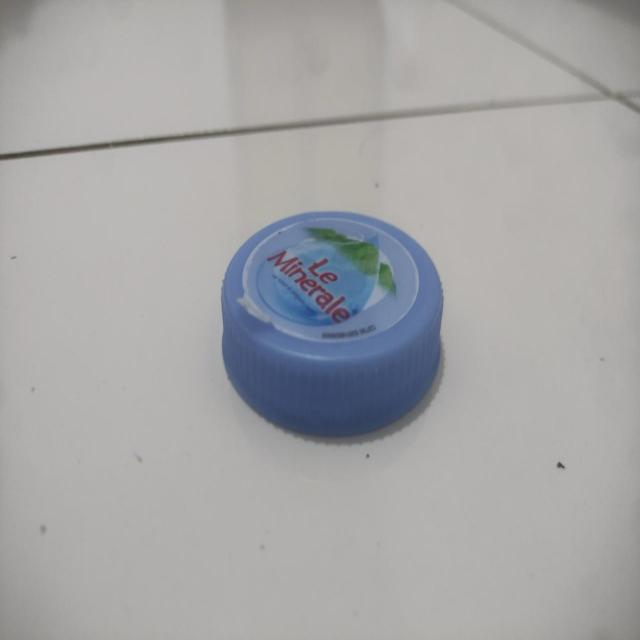TutupGalon: (220, 208, 444, 438)
